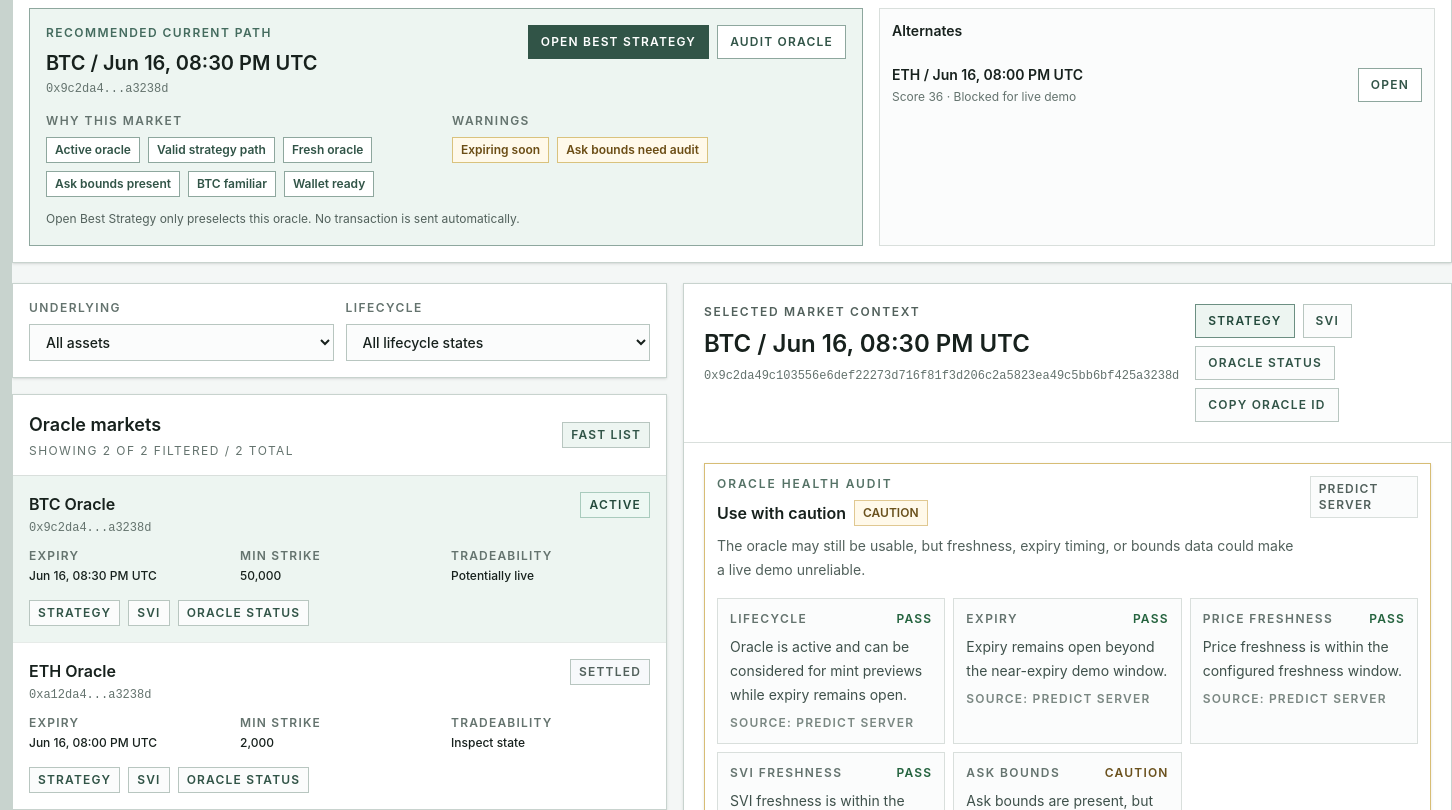
MarketIntelligencePage › renders active oracle context, freshness, unavailable ask-bounds state, and detail actions
(page scrolled)
Expected: the heading "BTC / Jun 16, 08:30 PM UTC" below "Selected market context" is shown, [704,329,1030,358]
Click the button "Copy Oracle ID". click: (1267, 405)
box: [1195,388,1339,422]
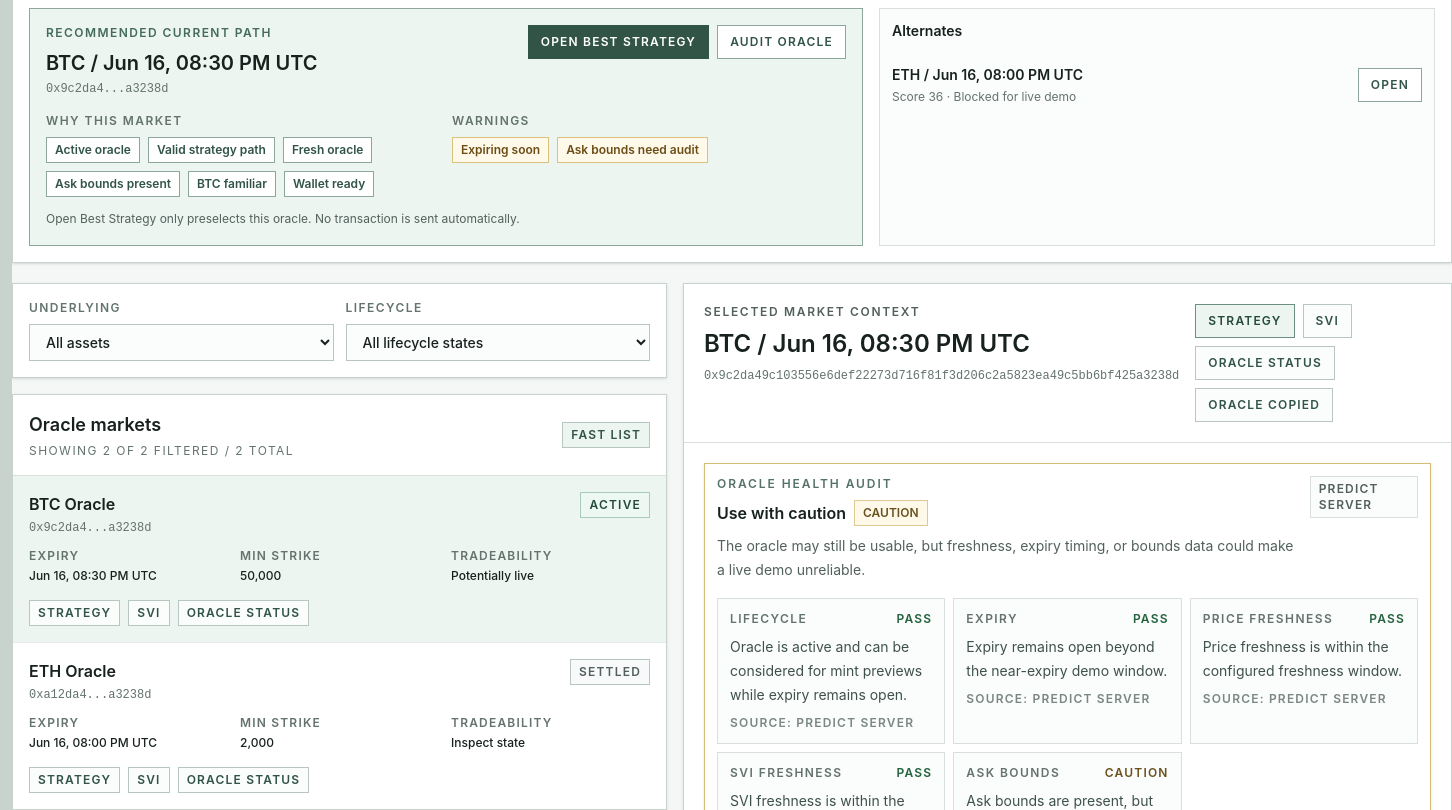
Expected: the button "Oracle copied" is shown, [1195,388,1333,422]
